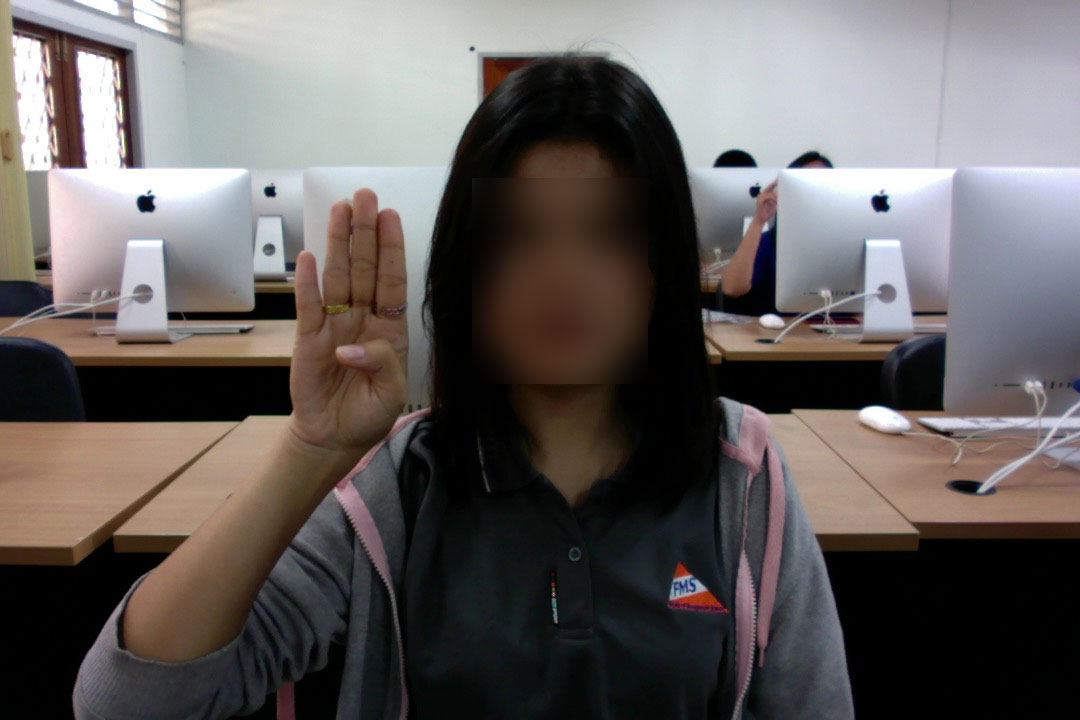bor: (282, 183, 415, 467)
